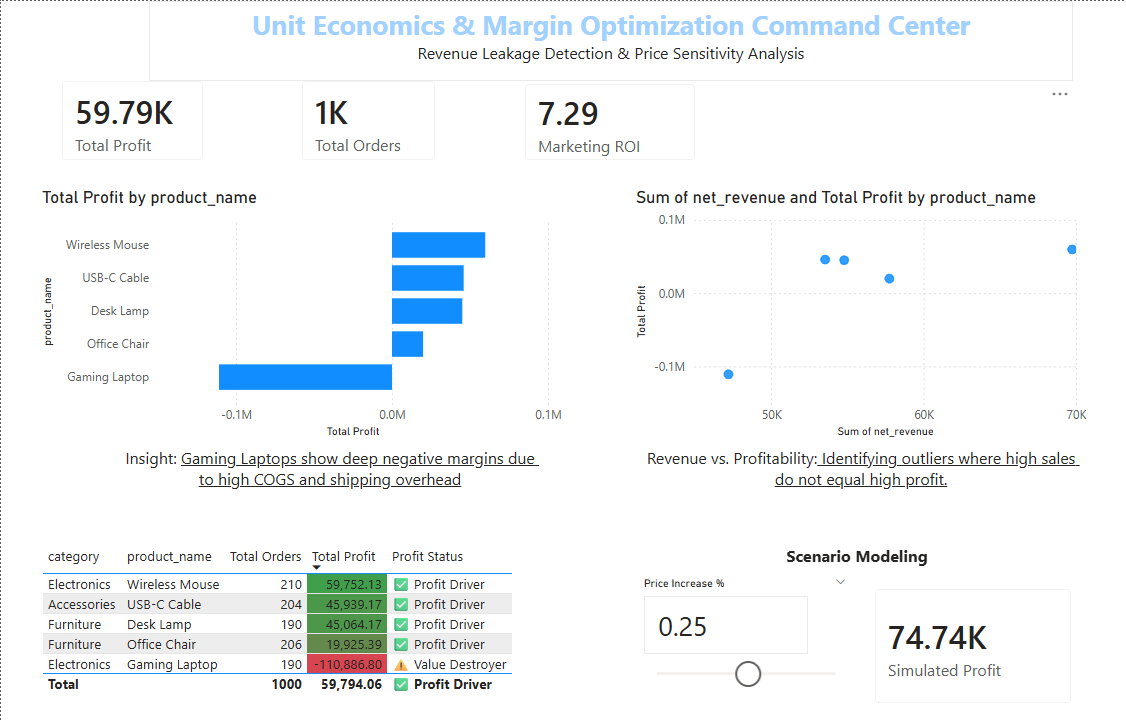

What the dashboard file says about the page in this screenshot:
{"tool":"powerbi","page":{"name":"Page 1","canvas":[1280,720],"ordinal":0},"visuals":[{"type":"clusteredBarChart","fields":{"Category":["Orders.product_name"],"Y":["Orders.Total Profit"]},"box":[36.1,185.9,529.6,254.6],"z":0},{"type":"scatterChart","fields":{"Category":["Orders.product_name"],"X":["Sum(Orders.net_revenue)"],"Y":["Orders.Total Profit"]},"box":[629.9,185.9,459.7,254.6],"z":1000},{"type":"cardVisual","fields":{"Data":["Orders.Total Profit"]},"box":[43.9,63.1,174.6,112.7],"z":2000},{"type":"cardVisual","fields":{"Data":["Orders.Total Orders"]},"box":[283.9,63.1,166.8,112.7],"z":3000},{"type":"cardVisual","fields":{"Data":["Orders.Marketing ROI"]},"box":[507,66.5,203.9,109.3],"z":4000},{"type":"tableEx","fields":{"Values":["Orders.category","Orders.product_name","Orders.Total Orders","Orders.Total Profit","Orders.Profit Status"]},"box":[36.1,539.7,495.8,180.3],"z":5000},{"type":"slicer","fields":{"Values":["Price Increase %.Price Increase %"]},"box":[629.7,571.5,227.6,148.7],"z":6000},{"type":"cardVisual","fields":{"Data":["Marketing_Budget.Simulated Profit"]},"box":[857.2,571.5,230.1,147.4],"z":6001},{"type":"textbox","box":[147.6,0,923.9,80],"z":6002},{"type":"textbox","box":[111.2,440.9,435.7,87.9],"z":6003},{"type":"textbox","box":[629.7,440.9,460.3,103.4],"z":6004},{"type":"textbox","box":[640,539.2,431.8,32.3],"z":6005}]}

Visuals, with their boxes on the page's 1280x720 design canvas (x1, y1, x2, y2). These are canvas units, not pixel positions in the 1126x721 screenshot, which may show the page scaled, cropped or inside an application window:
clusteredBarChart - Orders.product_name x Orders.Total Profit: bbox(36, 186, 566, 440)
scatterChart - Orders.product_name x Sum(Orders.net_revenue): bbox(630, 186, 1090, 440)
cardVisual - Orders.Total Profit: bbox(44, 63, 218, 176)
cardVisual - Orders.Total Orders: bbox(284, 63, 451, 176)
cardVisual - Orders.Marketing ROI: bbox(507, 66, 711, 176)
tableEx - Orders.category x Orders.product_name: bbox(36, 540, 532, 720)
slicer - Price Increase %.Price Increase %: bbox(630, 572, 857, 720)
cardVisual - Marketing_Budget.Simulated Profit: bbox(857, 572, 1087, 719)
textbox: bbox(148, 0, 1072, 80)
textbox: bbox(111, 441, 547, 529)
textbox: bbox(630, 441, 1090, 544)
textbox: bbox(640, 539, 1072, 572)
